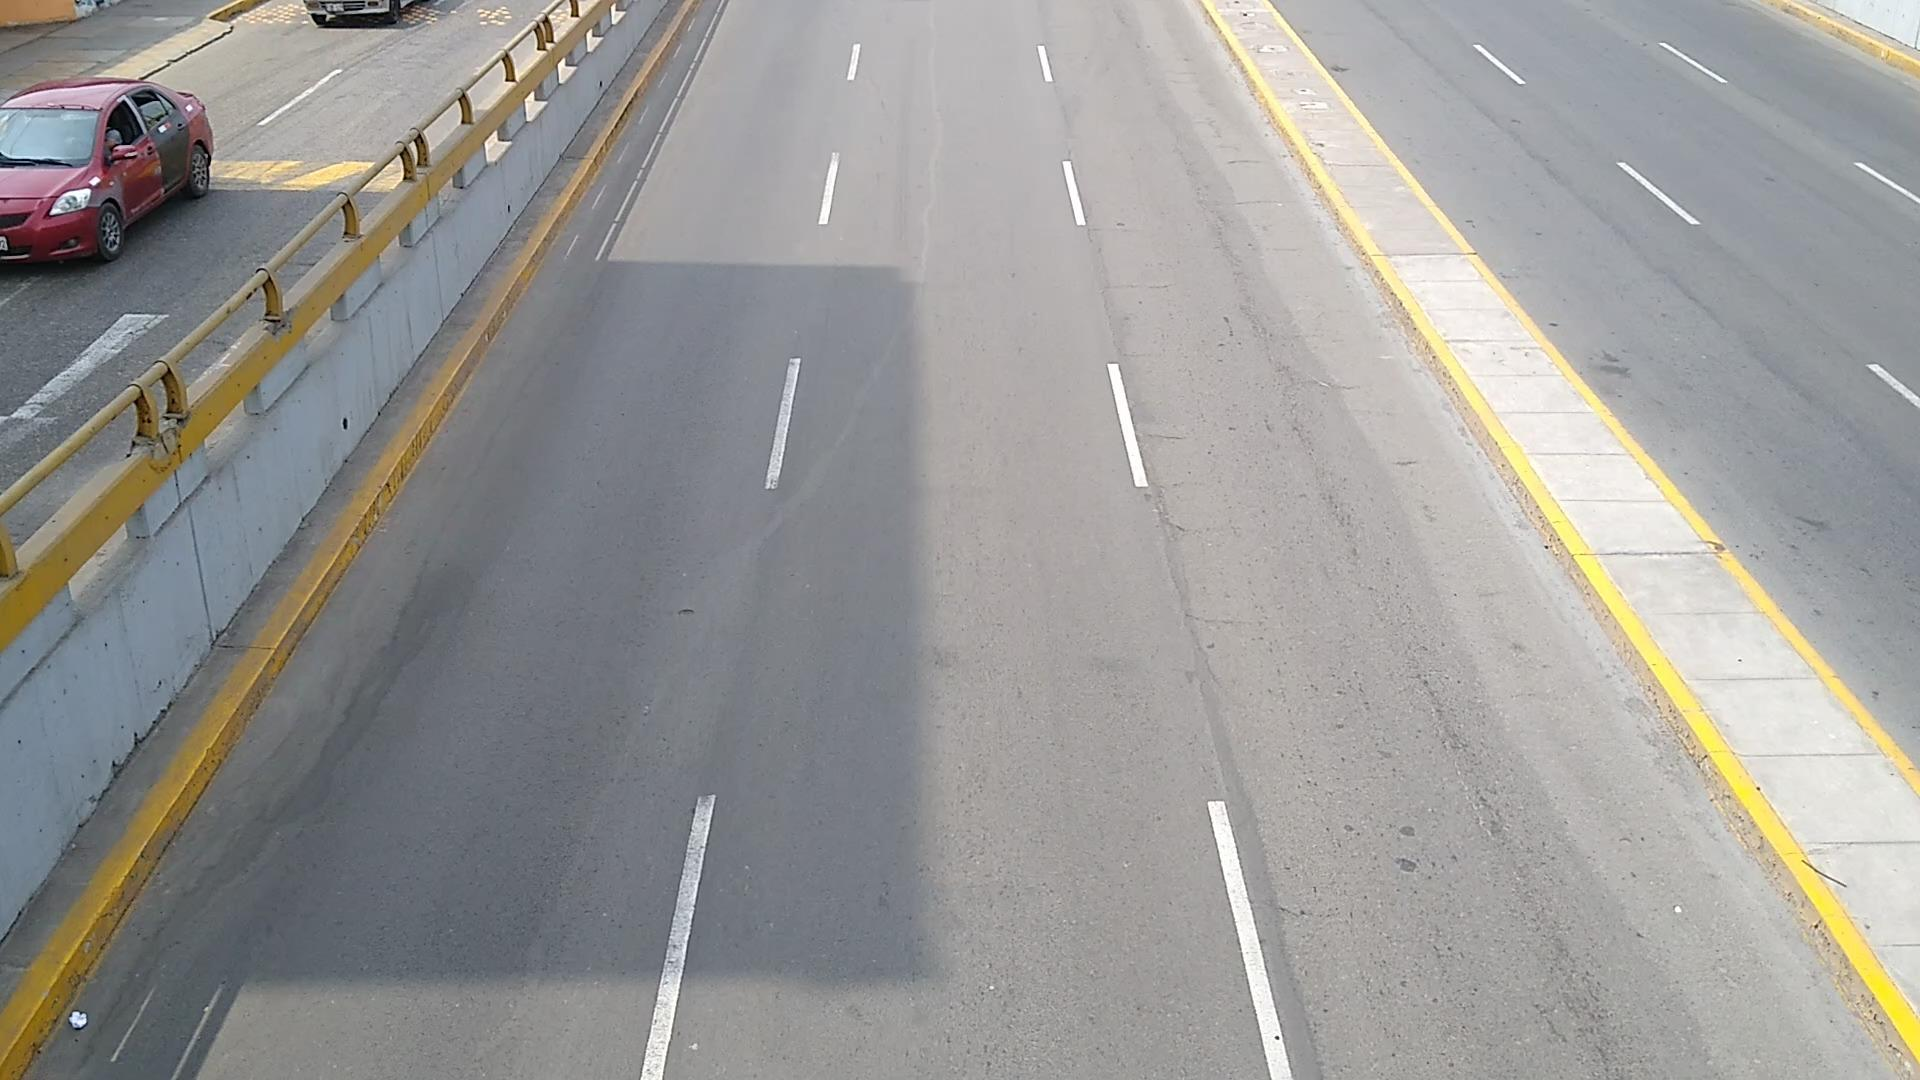car: (0, 79, 214, 261)
